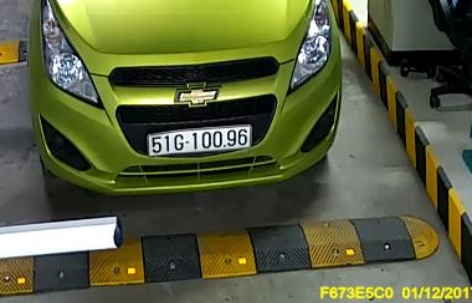plate: (144, 124, 256, 154)
